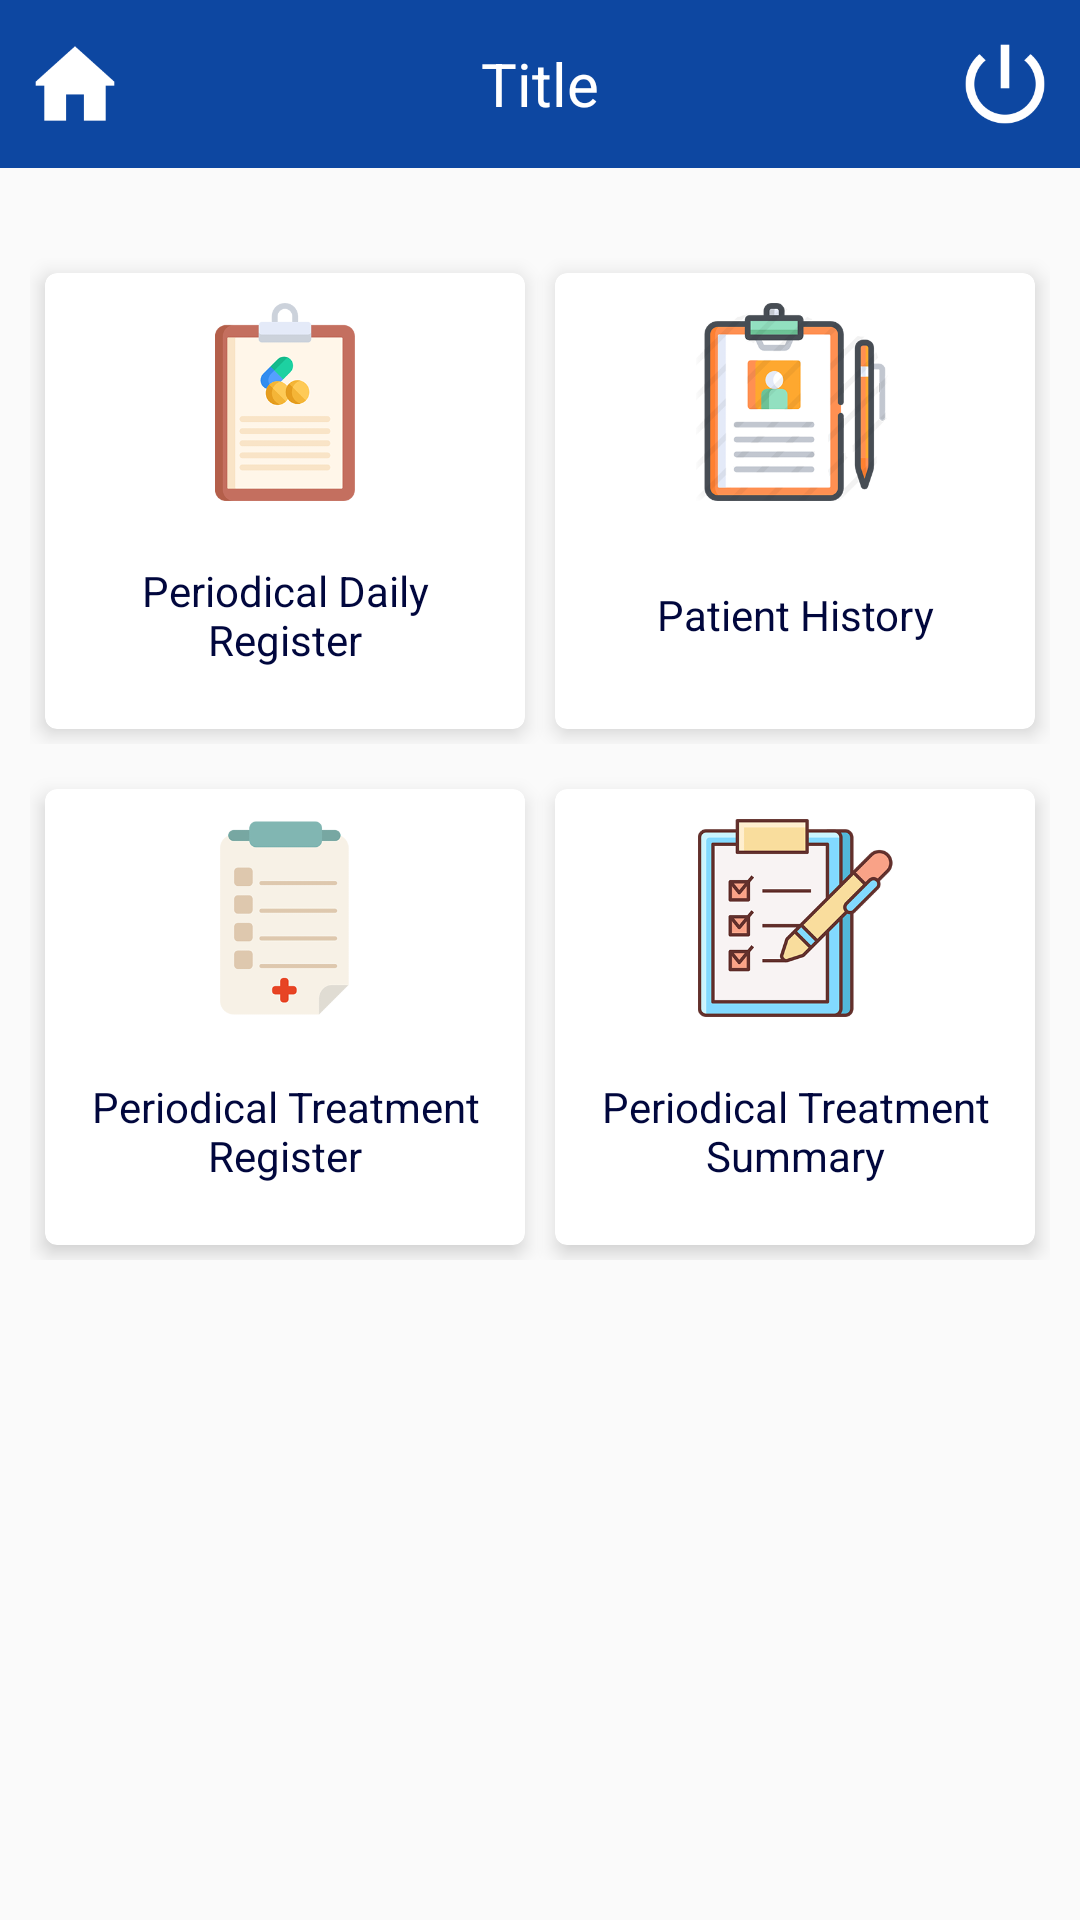

Where to tap for icons on this 1080 × 1920 app screen, as [x,y]:
home: [75,83]
